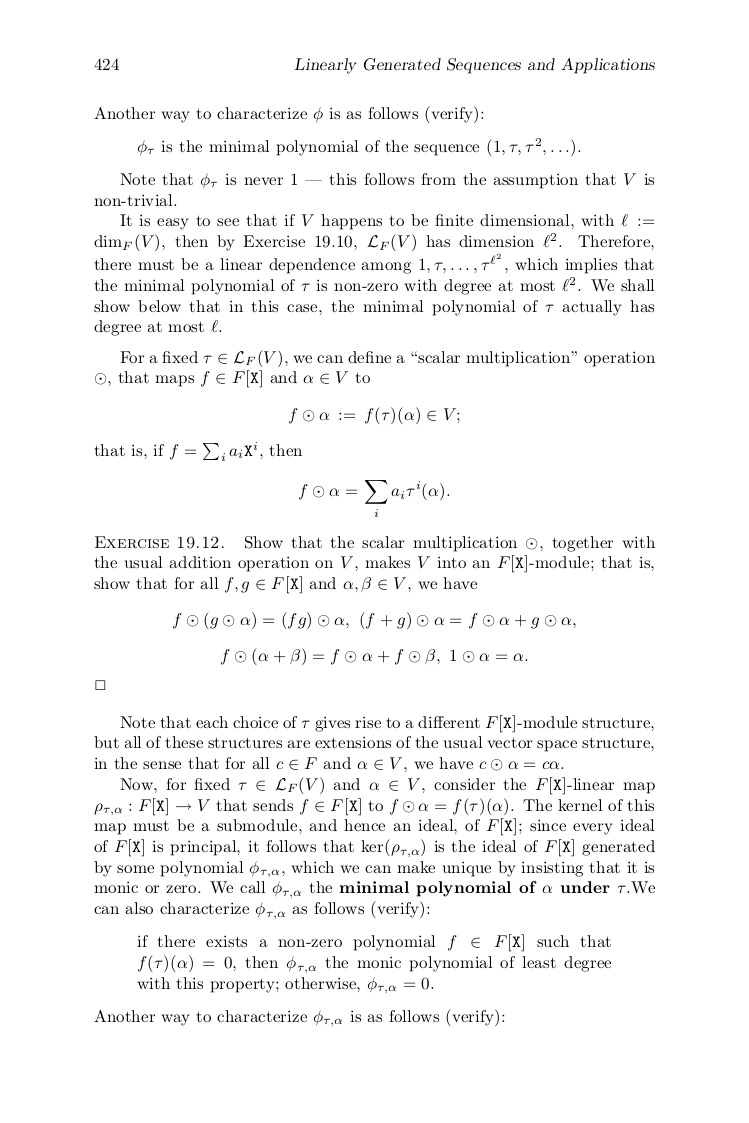formula: (173, 611, 575, 630), (221, 647, 527, 666), (299, 480, 449, 516), (289, 406, 459, 425)
